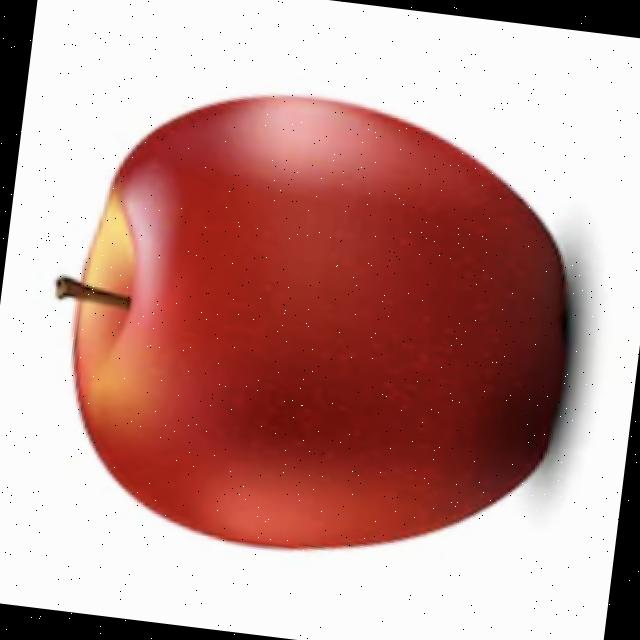Ripe: (36, 63, 598, 582)
